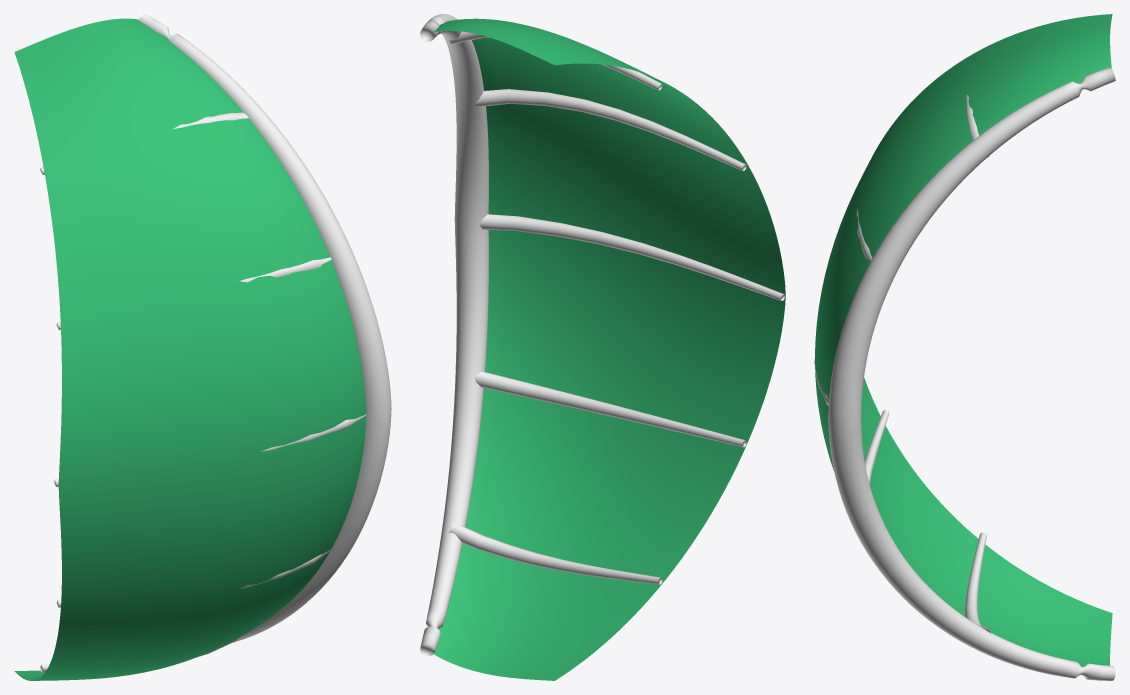
Rendered from kite_boost.obj.
3 renders of one model, left to right at view 1: azimuth 30°, elevation 25°; view 2: azimuth 150°, elevation 25°; view 3: azimuth 270°, elevation 25°, orthographic. The views are drawn at different scales.
Bounding box in the file's own units: 246 × 456 × 201.
